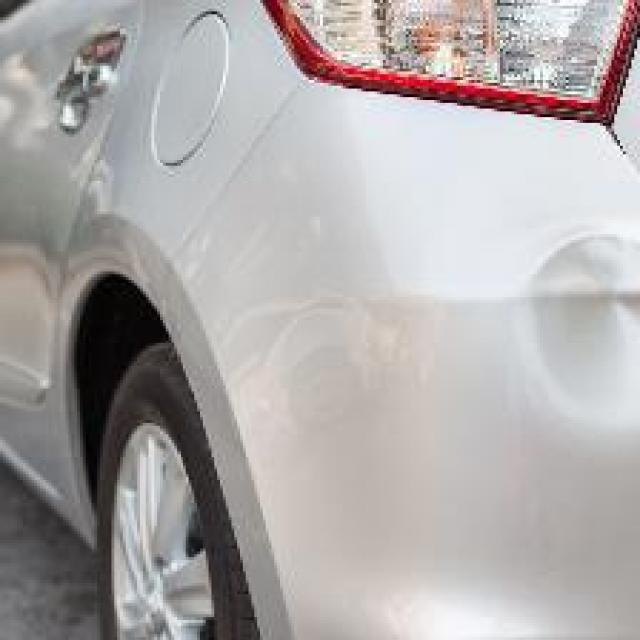damaged: (514, 228, 637, 441)
